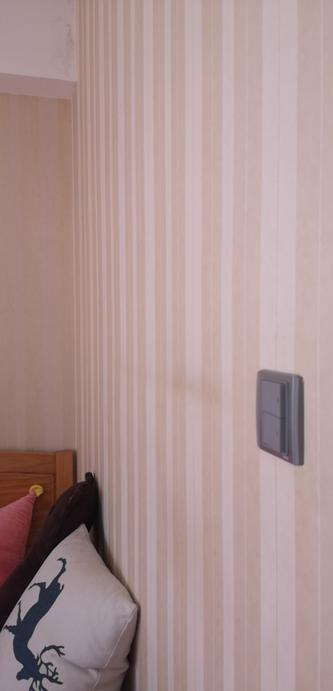switch: (251, 382, 292, 412), (263, 411, 294, 445)
